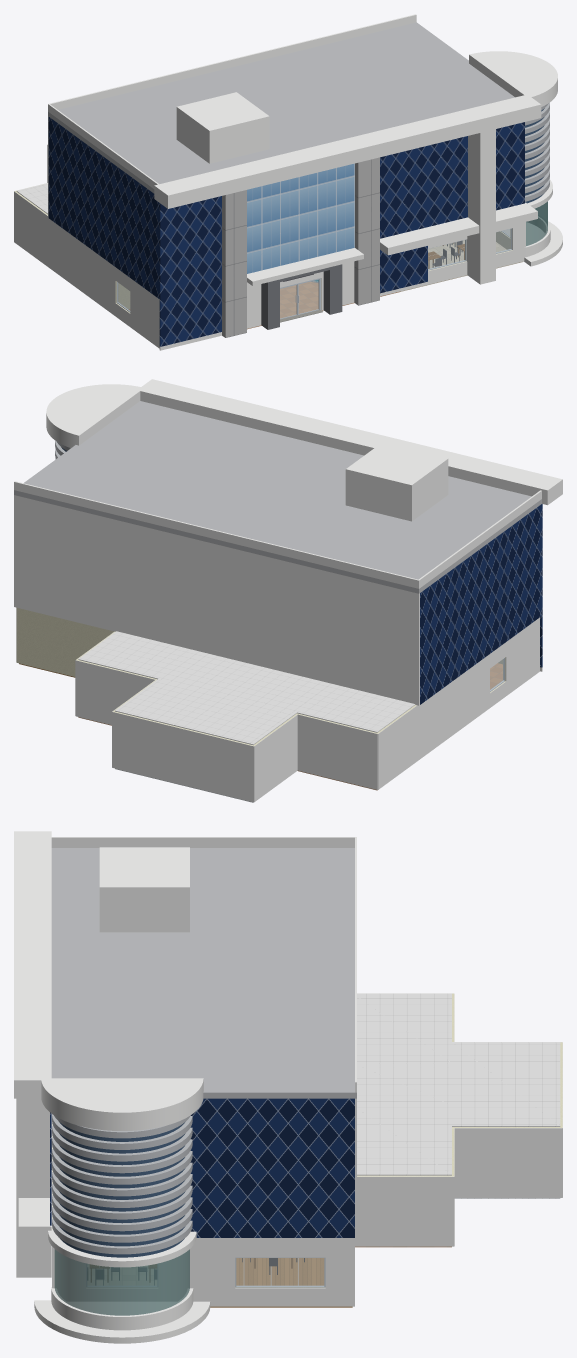
Rendered from ODeL_Building.glb.
The picture shows the model from 3 angles, top to bottom: view 1: azimuth 30°, elevation 25°; view 2: azimuth 150°, elevation 25°; view 3: azimuth 270°, elevation 25°; orthographic projection. The views are drawn at different scales.
Parts seen in each view (by area): view 1: Ceiling_Roof_Main, Facade_Glass_Diamond, Ceiling_Roof_Fascia, Facade_Skin_White, Facade_White, Facade_Glass_Pale, Facade_Cladding_Grey, Ceiling_Roof_Plant, Ceiling_Roof_DrumCap, Facade_Portal_DarkGrey, Facade_Drum_Louvers, Floor_Tiles_Lobby (+7 smaller); view 2: Facade_White, Ceiling_Roof_Main, Facade_Skin_White, Ceiling_Roof_Fascia, Facade_Glass_Diamond, Ceiling_Roof_Plant, Ceiling_Toilets, Ceiling_Wing_Steps, Ceiling_Wing_Ramp, Wall_Conference_North_01, Ceiling_Roof_DrumCap, Ceiling_Tiles_Toilet_Corridor; view 3: Ceiling_Roof_Main, Facade_Skin_White, Facade_Glass_Diamond, Facade_White, Facade_Drum_Louvers, Ceiling_Roof_Fascia, Ceiling_Toilets, Ceiling_Roof_Plant, Ceiling_Roof_DrumCap, Ceiling_Wing_Ramp, Ceiling_Wing_Steps, Facade_Drum_Glass_Ground (+6 smaller).
Part boxes in pixels (x1,y1,x2,y2): Ceiling_Roof_Main: (48, 22, 514, 193); Facade_Glass_Diamond: (48, 117, 524, 346); Ceiling_Roof_Fascia: (48, 14, 541, 208); Facade_Skin_White: (14, 144, 525, 348); Facade_White: (48, 116, 562, 350); Facade_Glass_Pale: (247, 163, 354, 273); Facade_Cladding_Grey: (222, 157, 379, 337); Ceiling_Roof_Plant: (176, 92, 269, 163); Ceiling_Roof_DrumCap: (469, 51, 557, 106); Facade_Portal_DarkGrey: (261, 264, 342, 329); Facade_Drum_Louvers: (525, 102, 549, 201); Floor_Tiles_Lobby: (280, 282, 400, 318); Facade_White: (14, 495, 542, 705); Ceiling_Roof_Main: (14, 401, 541, 593); Facade_Skin_White: (16, 608, 539, 802); Ceiling_Roof_Fascia: (14, 379, 562, 588); Facade_Glass_Diamond: (420, 504, 542, 704); Ceiling_Roof_Plant: (345, 442, 448, 521); Ceiling_Toilets: (115, 678, 296, 745); Ceiling_Wing_Steps: (263, 676, 415, 732); Ceiling_Wing_Ramp: (78, 631, 230, 686); Wall_Conference_North_01: (16, 608, 114, 676); Ceiling_Roof_DrumCap: (46, 384, 141, 447); Ceiling_Tiles_Toilet_Corridor: (193, 659, 300, 703); Ceiling_Roof_Main: (51, 848, 356, 1098); Facade_Skin_White: (52, 993, 562, 1306); Facade_Glass_Diamond: (50, 1098, 354, 1237); Facade_White: (16, 1098, 356, 1343); Facade_Drum_Louvers: (52, 1114, 192, 1254); Ceiling_Roof_Fascia: (14, 831, 356, 1098); Ceiling_Toilets: (452, 1042, 560, 1126); Ceiling_Roof_Plant: (99, 847, 189, 932); Ceiling_Roof_DrumCap: (41, 1078, 203, 1130); Ceiling_Wing_Ramp: (357, 1105, 451, 1175); Ceiling_Wing_Steps: (357, 993, 451, 1063); Facade_Drum_Glass_Ground: (54, 1249, 189, 1315).
Bounding box in the file's own units: 29.8 × 12.8 × 24.32.
Materials: 31 (12 with a texture image).
